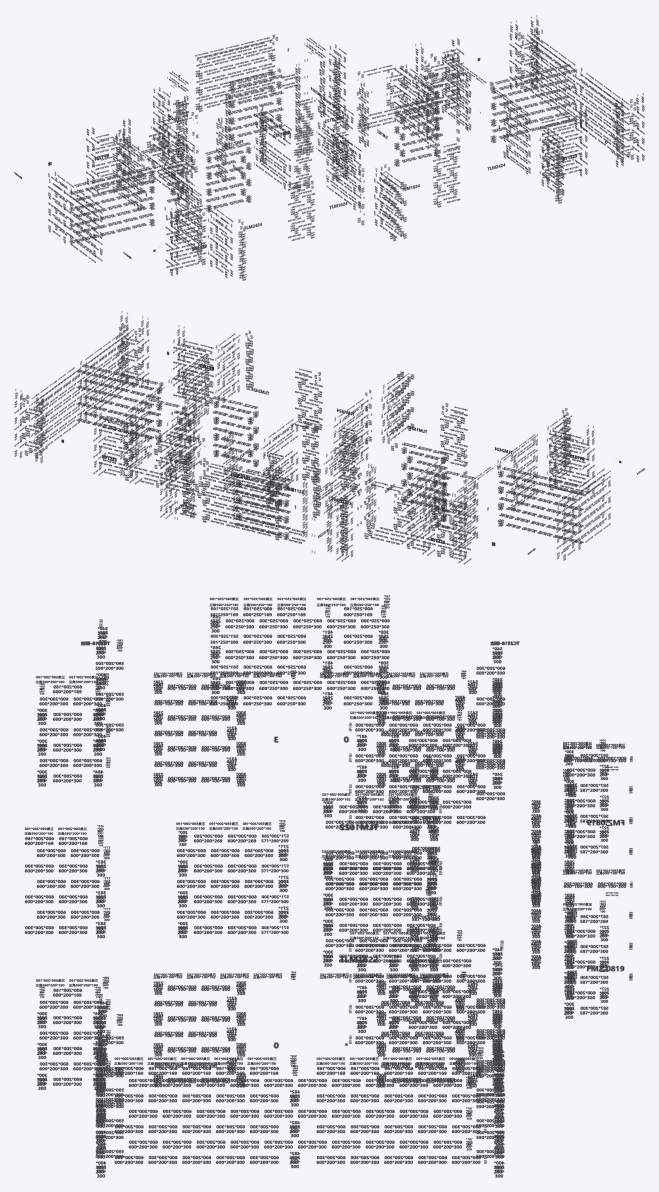
Rendered from labels.glb.
3 renders of one model, top to bottom at view 1: azimuth 30°, elevation 25°; view 2: azimuth 150°, elevation 25°; view 3: azimuth 270°, elevation 25°, orthographic. The views are drawn at different scales.
Visible parts, largest first — view 1: L_F02; view 2: L_F02; view 3: L_F02.
Boxes of the visible parts, left/top/right/bottom form: L_F02: left=14, top=15, right=644, bottom=280; L_F02: left=14, top=311, right=644, bottom=564; L_F02: left=24, top=595, right=632, bottom=1177.
Size of the model in its own units: 20 by 2.83 by 11.25.
Materials: 1 (1 with a texture image).
